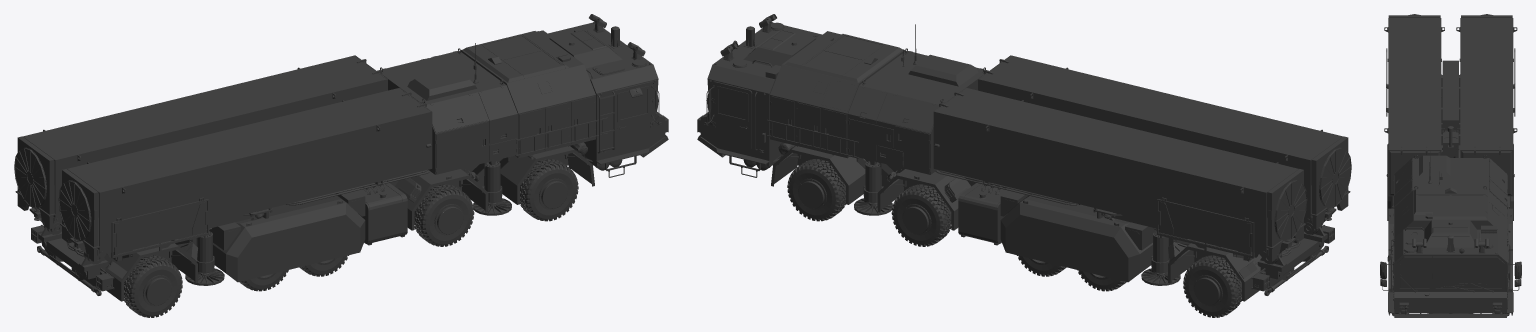
The model's file is sapsan.glb.
The picture shows the model from 3 angles, left to right: view 1: azimuth 30°, elevation 25°; view 2: azimuth 150°, elevation 25°; view 3: azimuth 270°, elevation 25°; orthographic projection. The views are drawn at different scales.
Visible parts, largest first — view 1: cont, body__2, body, w0R__1, w4R__1, w2R, w1R, w3R__2, body__1, w3R__1, w1R__2, w2R__3; view 2: cont, body__2, body, w3L__1, w4L__1, w0L__1, w2L, w1L, body__1, w1L__2, w2L__2; view 3: body__2, cont, body, body__1.
Boxes of the visible parts, x1,y1,x2,y2 form: cont: (14,55,432,263); body__2: (377,14,668,177); body: (31,142,594,301); w0R__1: (124,255,182,317); w4R__1: (520,159,578,221); w2R: (239,215,360,281); w1R: (237,215,358,281); w3R__2: (414,184,474,246); body__1: (71,146,568,288); w3R__1: (414,186,463,244); w1R__2: (239,270,288,291); w2R__3: (299,255,348,276); cont: (933,55,1351,263); body__2: (697,14,988,177); body: (771,142,1334,301); w3L__1: (891,184,951,246); w4L__1: (787,159,845,221); w0L__1: (1183,255,1241,317); w2L: (1005,215,1126,281); w1L: (1007,215,1128,281); body__1: (797,146,1294,288); w1L__2: (1077,270,1126,291); w2L__2: (1017,255,1066,276); body__2: (1380,151,1521,317); cont: (1384,14,1517,196); body: (1386,48,1515,313); body__1: (1386,84,1514,146).
Bounding box in the file's own units: 12.94 × 3.7 × 3.34.
Materials: 1 (1 with a texture image).
